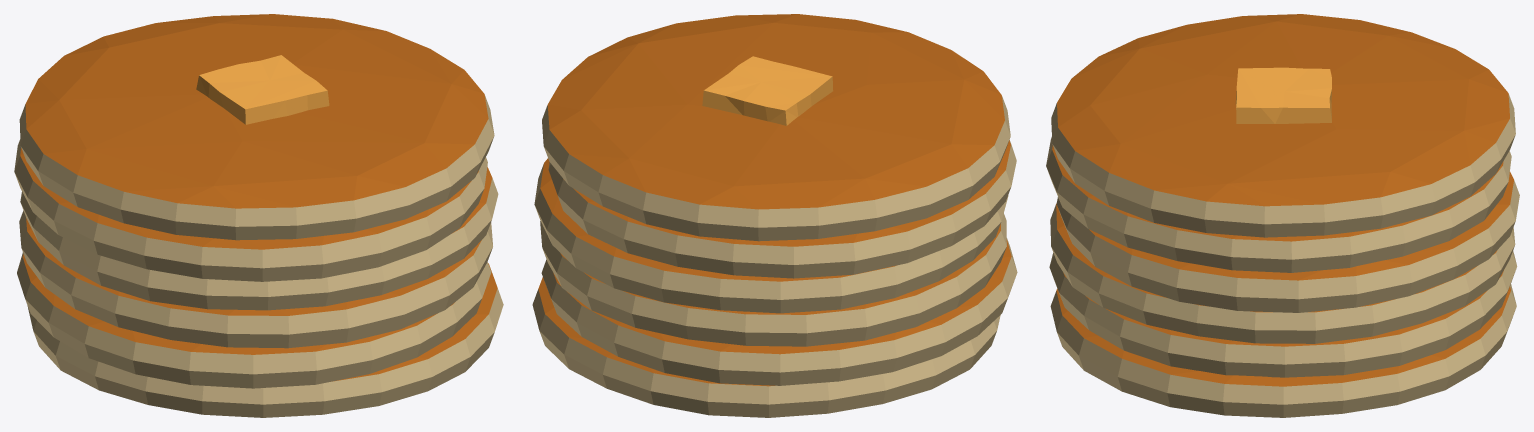
The model's file is Pancake.fbx.
3 views of the same model, side by side, from view 1: azimuth 30°, elevation 25°; view 2: azimuth 150°, elevation 25°; view 3: azimuth 270°, elevation 25° (orthographic). The views are drawn at different scales.
Visible parts, largest first — view 1: Pancake; view 2: Pancake; view 3: Pancake.
Part boxes in pixels (box(x1,y1,x2,y2)): Pancake: box(14, 14, 503, 417); Pancake: box(532, 14, 1017, 417); Pancake: box(1046, 14, 1519, 417).
Size of the model in its own units: 12.94 by 7.03 by 12.83.
